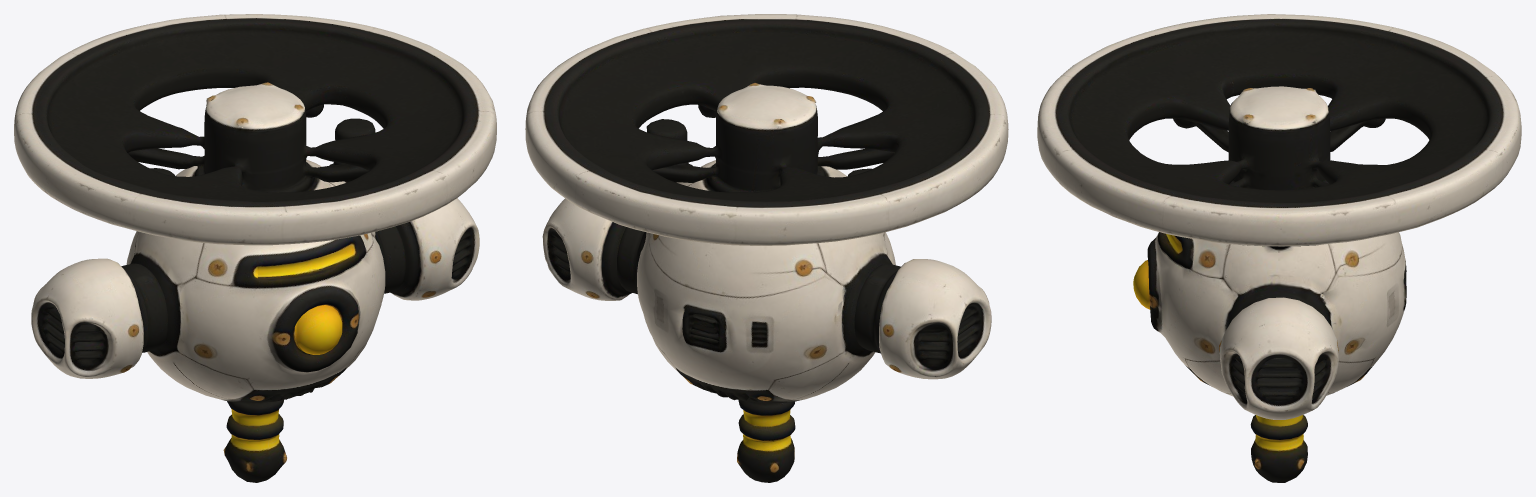
File: drone.glb
3 renders of one model, left to right at view 1: azimuth 30°, elevation 25°; view 2: azimuth 150°, elevation 25°; view 3: azimuth 270°, elevation 25°, orthographic.
Parts seen in each view (by area): view 1: Rotor, Drone; view 2: Rotor, Drone; view 3: Rotor, Drone.
Boxes of the visible parts, x1=… form: Rotor: x1=14, y1=14, x2=496, y2=245; Drone: x1=31, y1=99, x2=479, y2=482; Rotor: x1=525, y1=14, x2=1008, y2=245; Drone: x1=542, y1=105, x2=991, y2=482; Rotor: x1=1037, y1=14, x2=1521, y2=246; Drone: x1=1133, y1=90, x2=1406, y2=482.
Bounding box in the file's own units: 1.15 × 1 × 1.15.
Materials: 1 (1 with a texture image).
